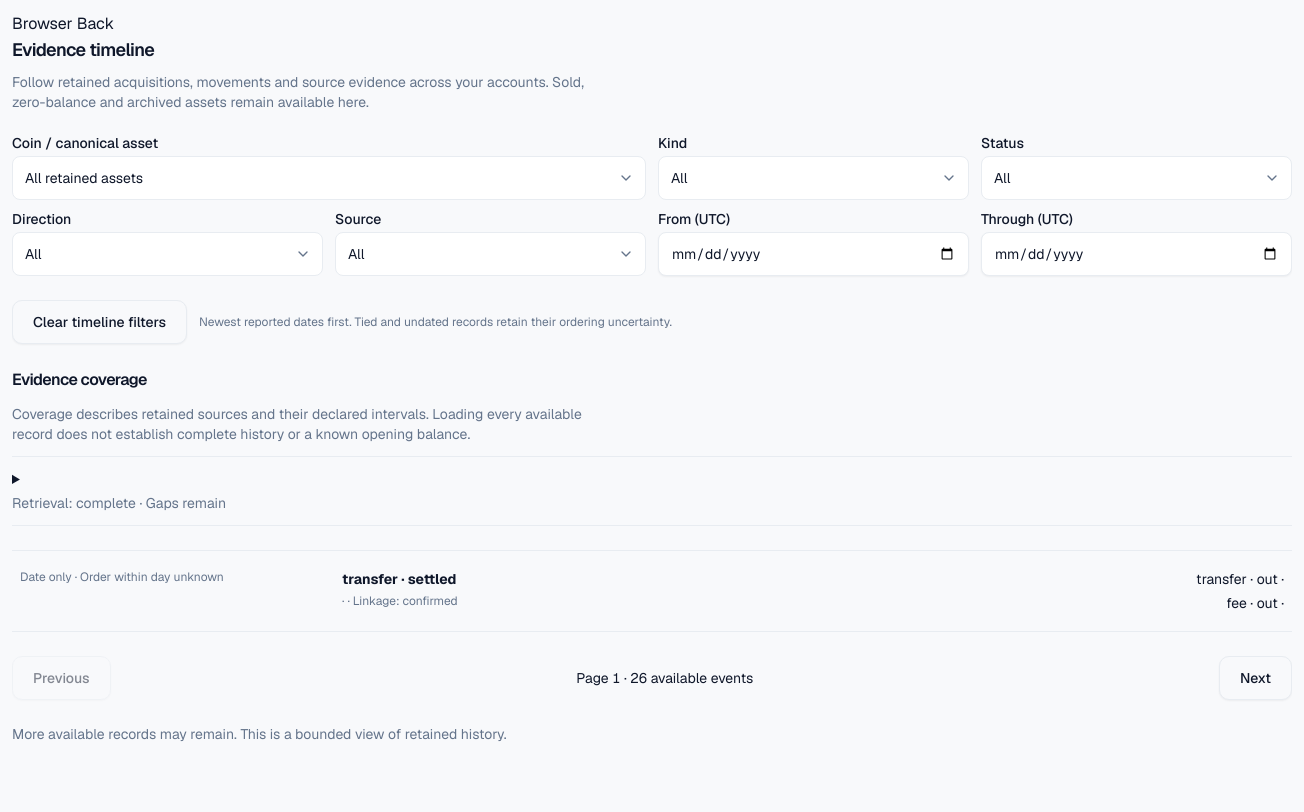
pins continuation to the revision and offers restart when evidence changes
The width and height of the screenshot is (1304, 812).
Check: the button "transfer · settled" is shown, box [12, 551, 1292, 631]
Click the button "Next".
click(1255, 678)  # box [1219, 656, 1292, 700]
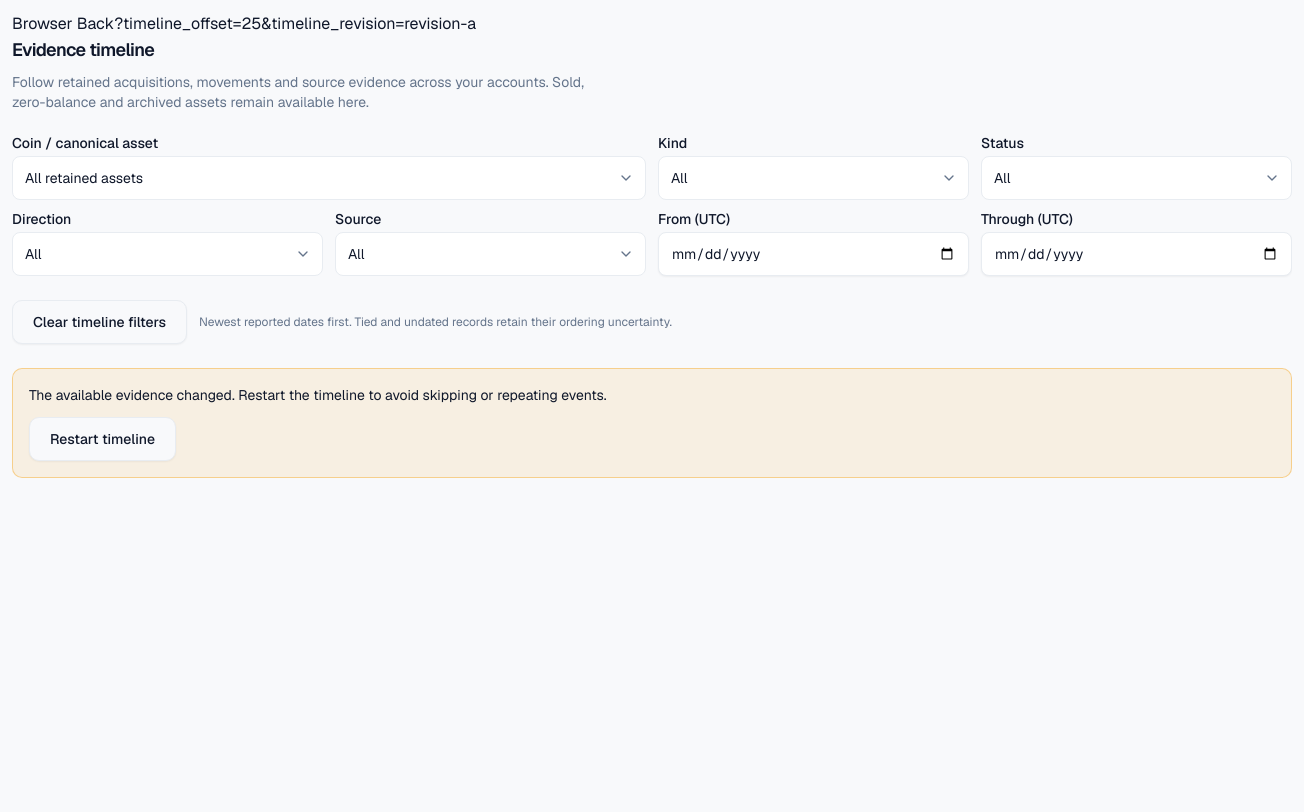
Check: the text "available evidence changed" is shown, box [29, 386, 607, 404]
Click the button "Restart timeline".
click(102, 439)  # box [29, 417, 176, 461]
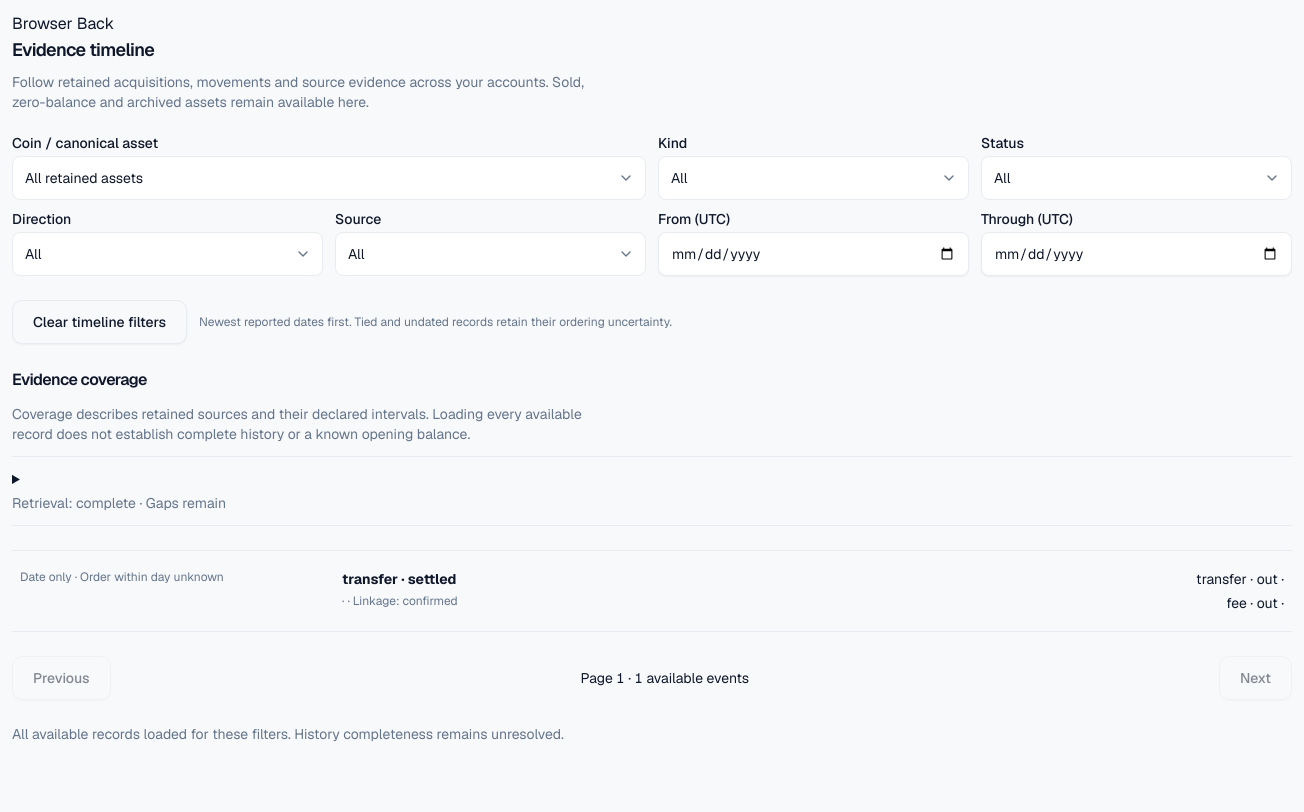
Check: the button "transfer · settled" is shown, box [12, 551, 1292, 631]
